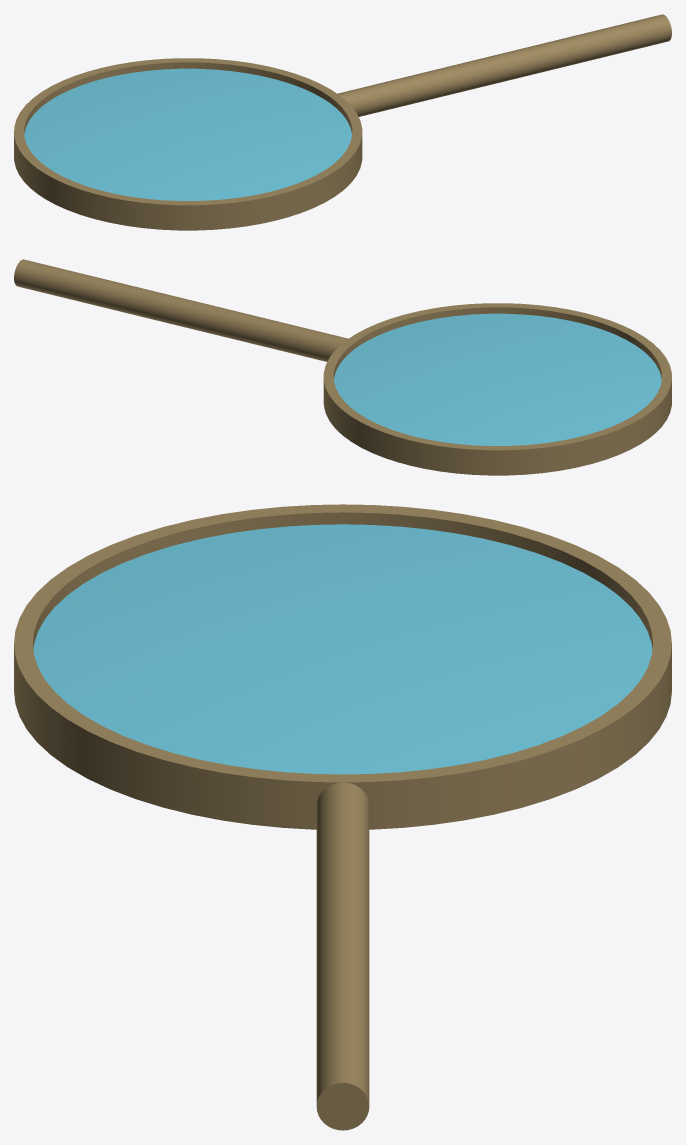
File: mag glass v2.fbx
The picture shows the model from 3 angles, top to bottom: view 1: azimuth 30°, elevation 25°; view 2: azimuth 150°, elevation 25°; view 3: azimuth 270°, elevation 25°; orthographic projection. The views are drawn at different scales.
Parts seen in each view (by area): view 1: Body1, Body2, Body3; view 2: Body1, Body2, Body3; view 3: Body1, Body2, Body3.
Part boxes in pixels (left/top/right/bottom): Body1: left=24, top=68, right=351, bottom=200; Body2: left=14, top=58, right=362, bottom=230; Body3: left=337, top=14, right=671, bottom=116; Body1: left=334, top=313, right=661, bottom=445; Body2: left=323, top=303, right=671, bottom=475; Body3: left=14, top=259, right=348, bottom=361; Body1: left=33, top=524, right=652, bottom=774; Body2: left=14, top=504, right=671, bottom=829; Body3: left=316, top=782, right=369, bottom=1130.
Size of the model in its own units: 1.04 by 0.04 by 0.5.
